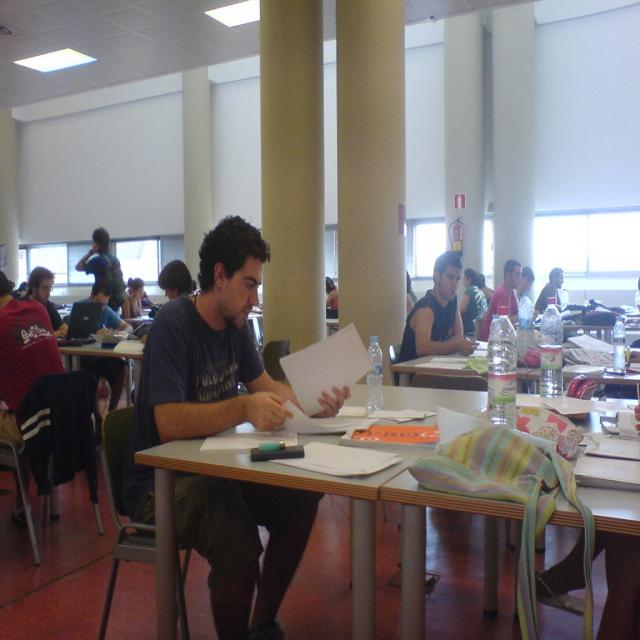chair: (97, 407, 192, 640), (0, 371, 105, 563), (262, 338, 290, 383)
desk: (133, 383, 639, 639)
laptop: (56, 301, 103, 344)
person: (134, 214, 338, 640), (399, 250, 477, 360), (74, 227, 128, 316), (482, 258, 522, 340), (26, 266, 68, 336), (459, 268, 489, 337), (152, 261, 194, 309), (532, 266, 570, 316), (516, 264, 536, 328), (124, 277, 154, 319)
